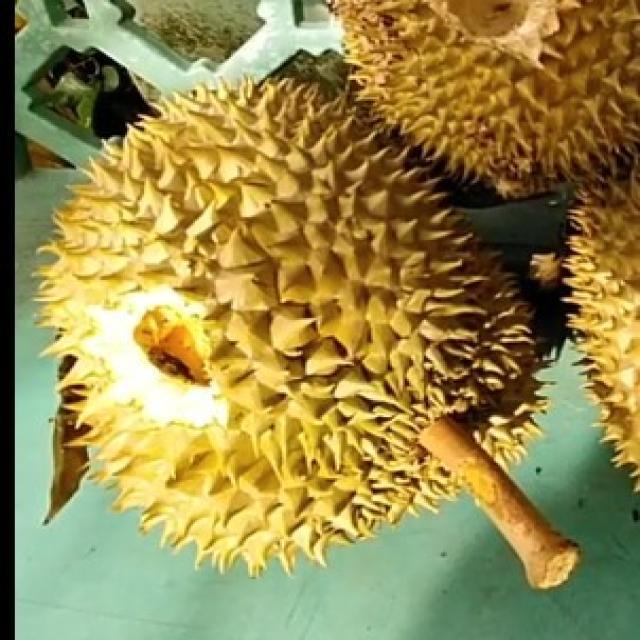defective: (38, 73, 551, 597)
